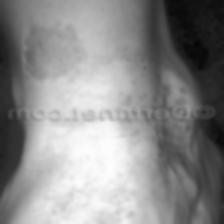Unclassified: (21, 15, 83, 87), (100, 80, 190, 106), (114, 124, 191, 146), (92, 47, 151, 68)
